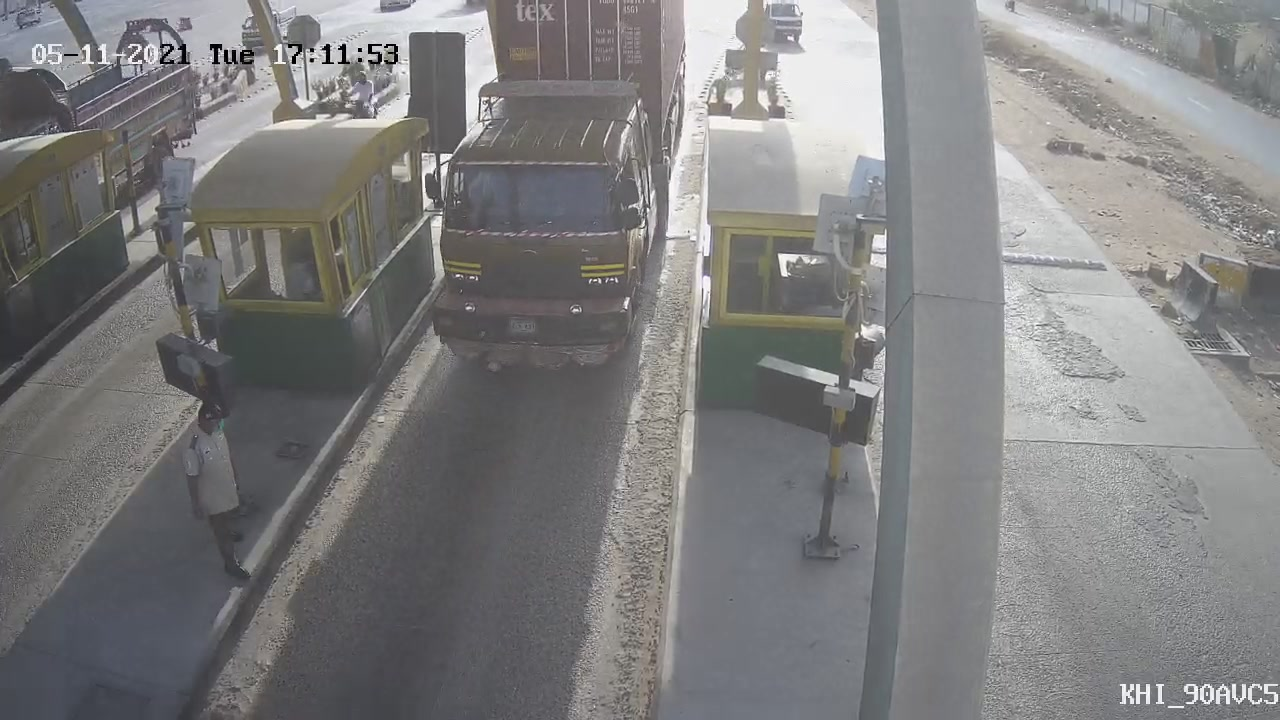F6: (396, 3, 709, 400)
